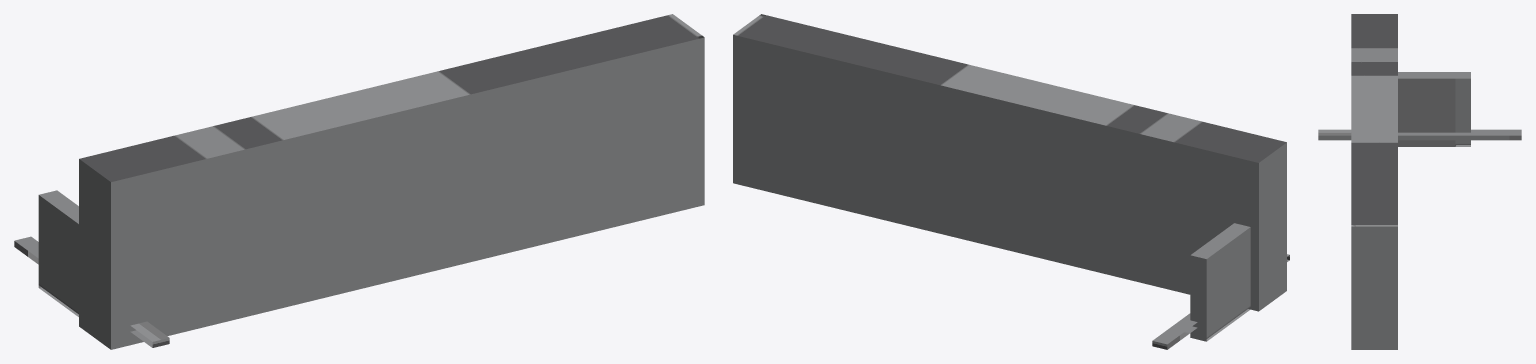
3 views of the same model, side by side, from view 1: azimuth 30°, elevation 25°; view 2: azimuth 150°, elevation 25°; view 3: azimuth 270°, elevation 25° (orthographic). The views are drawn at different scales.
Size of the model in its own units: 0.966 by 0.2608 by 0.39.
